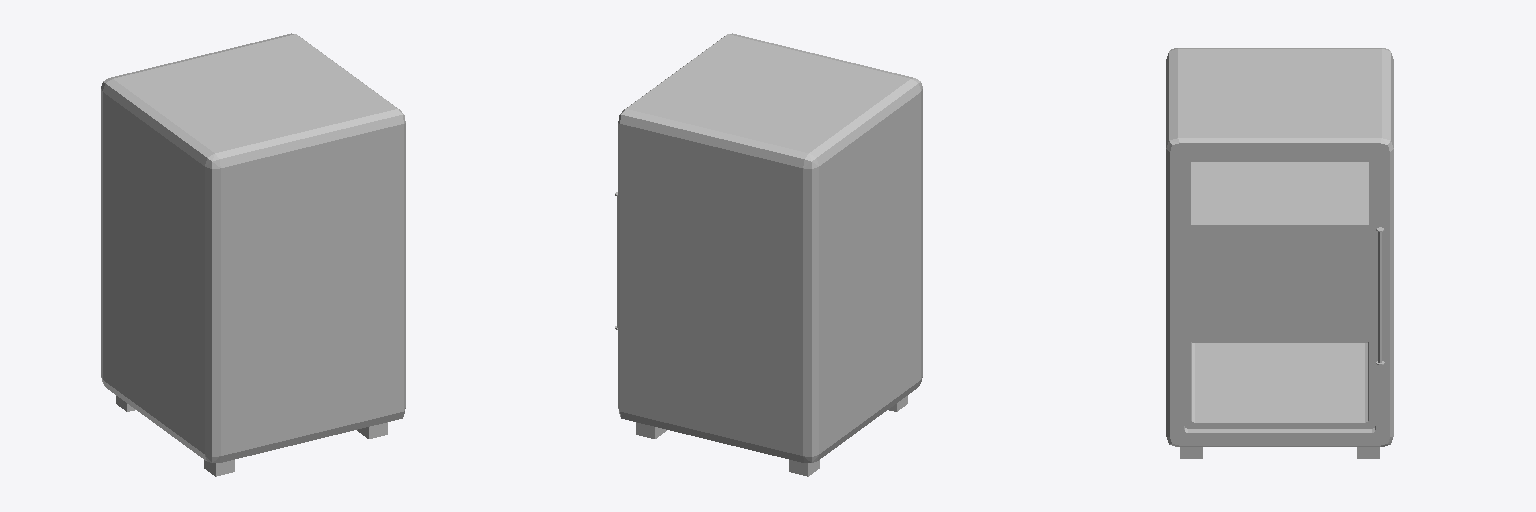
File: safe.obj
3 views of the same model, side by side, from view 1: azimuth 30°, elevation 25°; view 2: azimuth 150°, elevation 25°; view 3: azimuth 270°, elevation 25° (orthographic).
Parts seen in each view (by area): view 1: SM_Safe; view 2: SM_Safe; view 3: SM_Safe.
Part boxes in pixels (left/top/right/bottom): SM_Safe: left=101, top=33, right=405, bottom=476; SM_Safe: left=615, top=33, right=922, bottom=476; SM_Safe: left=1166, top=48, right=1393, bottom=458.
Bounding box in the file's own units: 0.4151 × 0.63 × 0.4.